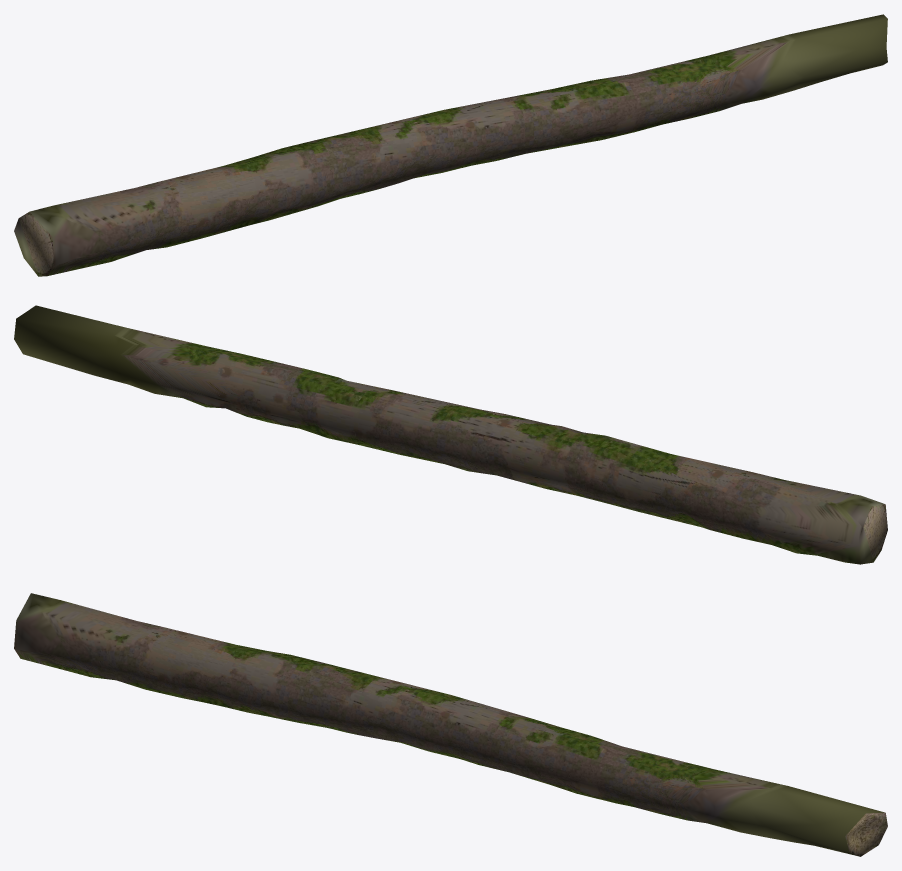
Rendered from FallenLog.glb.
The picture shows the model from 3 angles, top to bottom: view 1: azimuth 30°, elevation 25°; view 2: azimuth 150°, elevation 25°; view 3: azimuth 330°, elevation 25°; orthographic projection.
Visible parts, largest first — view 1: fallen-log; view 2: fallen-log; view 3: fallen-log.
Boxes of the visible parts, x1,y1,x2,y2 form: fallen-log: (14,14,887,276); fallen-log: (14,305,887,564); fallen-log: (14,593,887,856).
Size of the model in its own units: 6.14 by 0.4292 by 0.4614.
Materials: 1 (1 with a texture image).
